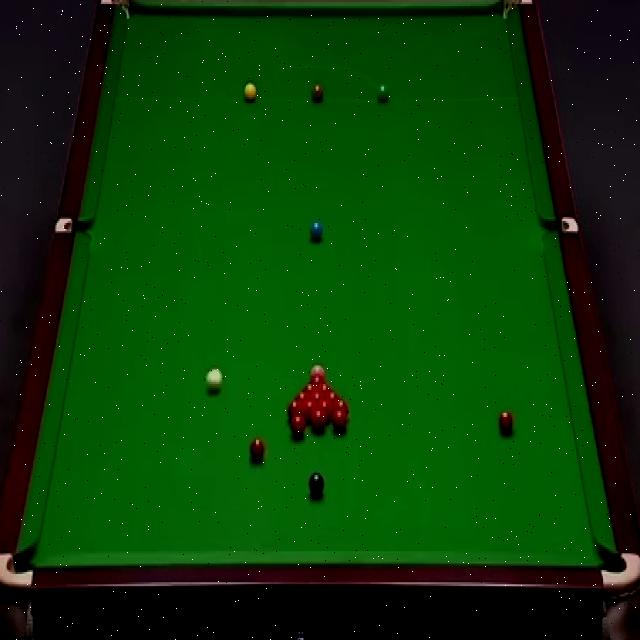black-ball: (308, 472, 326, 500)
blue-ball: (308, 220, 324, 243)
brown-ball: (311, 82, 324, 103)
green-ball: (375, 82, 389, 103)
pink-ball: (310, 362, 327, 378)
red-ball: (248, 438, 266, 467), (496, 412, 514, 435), (332, 409, 348, 431), (290, 414, 305, 436), (311, 409, 325, 431), (287, 399, 304, 416), (318, 400, 332, 420), (303, 400, 317, 419), (333, 401, 349, 417), (294, 391, 310, 401), (309, 392, 326, 401), (326, 392, 341, 402), (302, 383, 318, 392), (317, 383, 333, 392), (310, 375, 326, 383)
white-ball: (203, 365, 223, 394)
yellow-ball: (244, 83, 257, 103)
